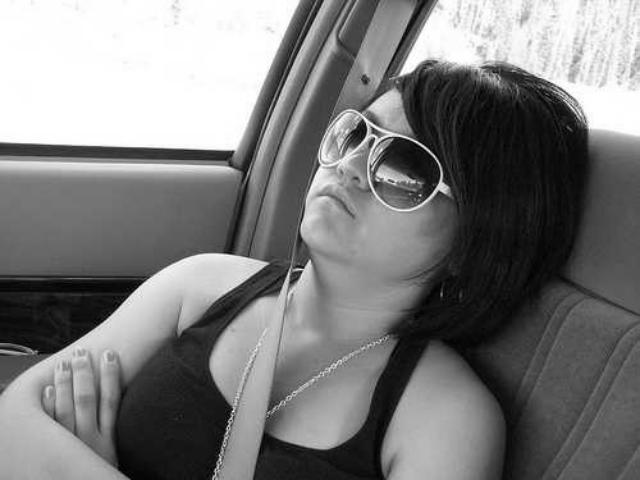Seatbelt: (209, 0, 423, 480)
